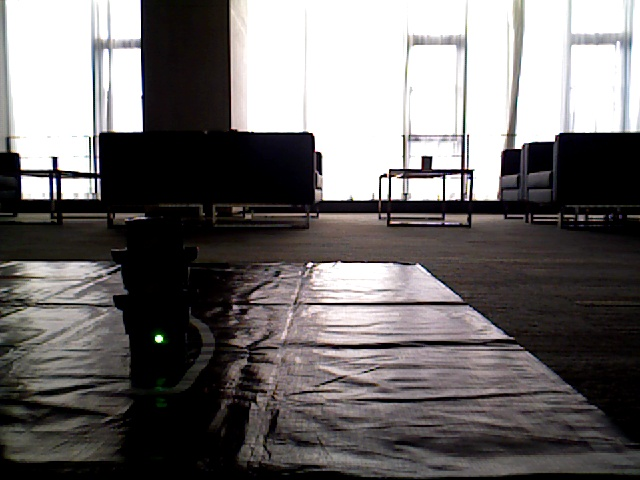green: (132, 222, 181, 358)
